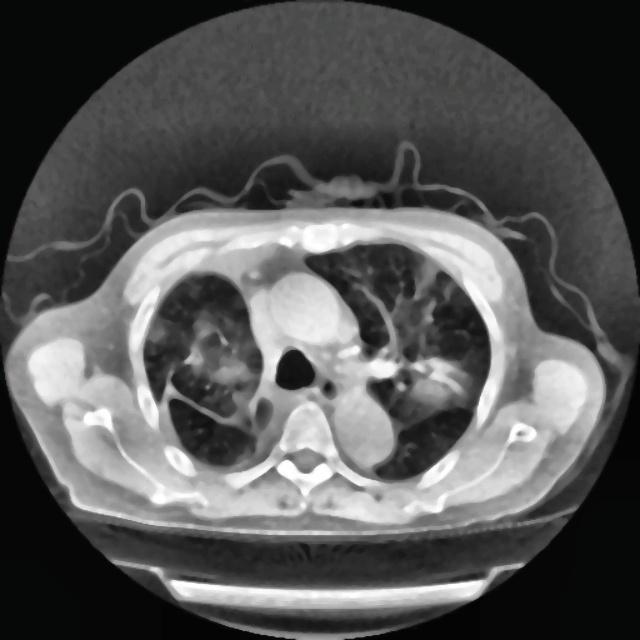covid: (3, 141, 634, 636)
